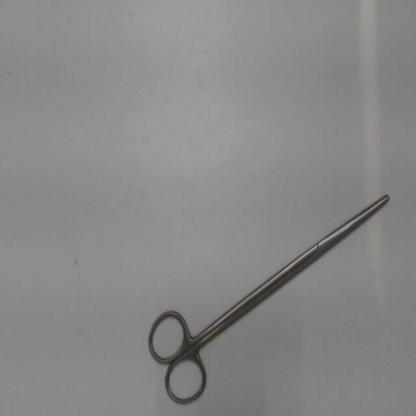9 Metzenbaum Scissors: (140, 191, 394, 411)
